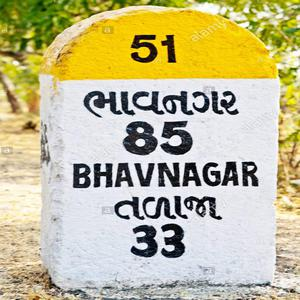kmstone: (38, 5, 282, 287)
